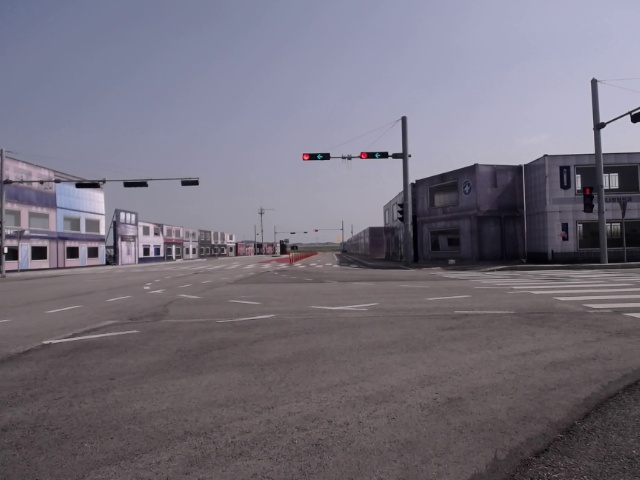left_green_4: (302, 153, 330, 160), (361, 152, 387, 158)
